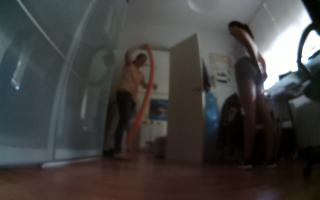person: (222, 15, 282, 173), (107, 37, 160, 166)
